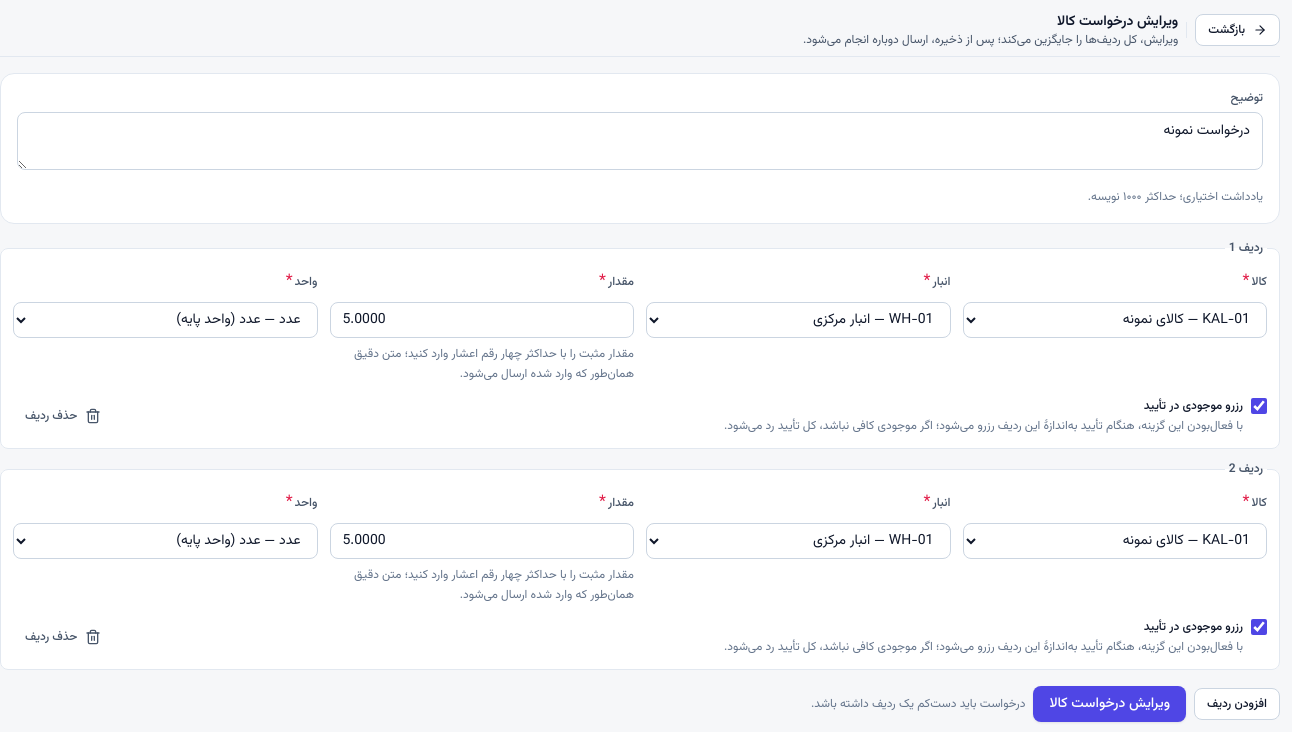
Test: material request edit form › replaces the whole line array through PATCH and keeps the exact strings
The width and height of the screenshot is (1292, 732).
Replace the text in the 1st field labelled "مقدار" with "7.5000" at (482, 320), box top-left (330, 302), bottom-right (634, 338)
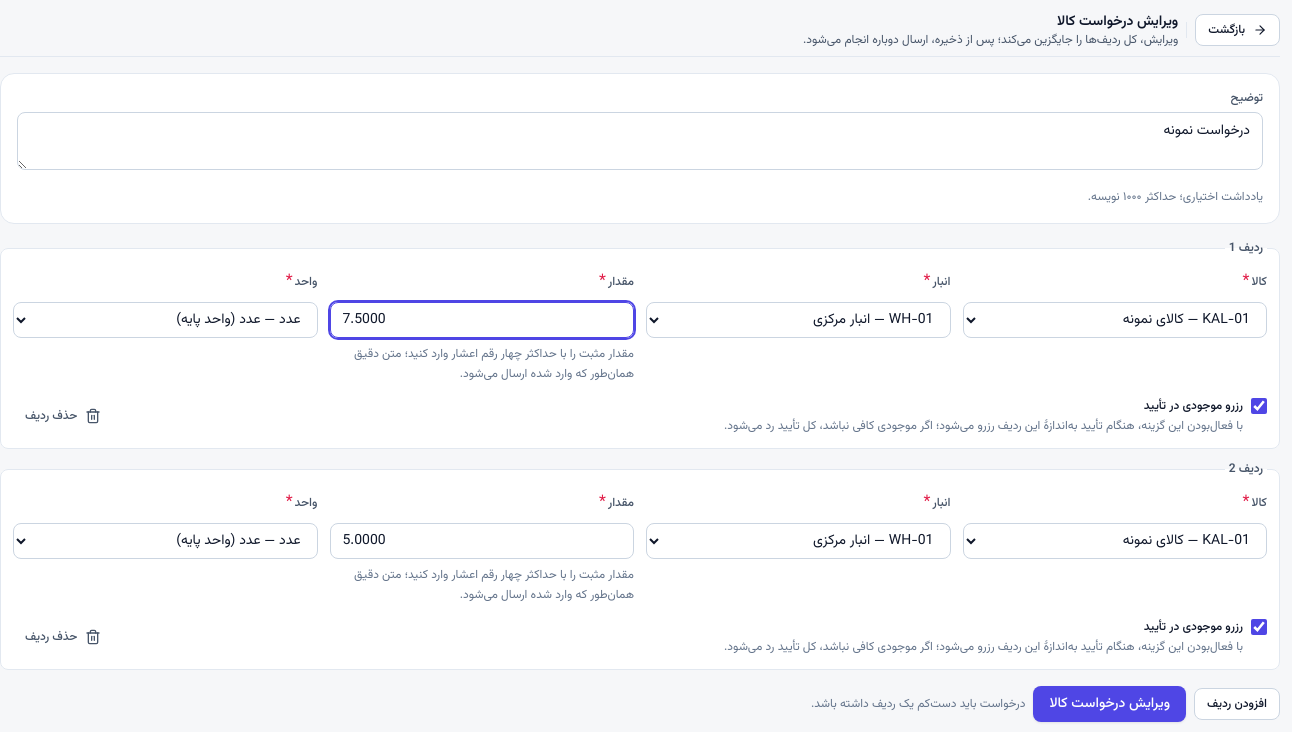
Click the button "ویرایش درخواست کالا" at (1110, 704), box top-left (1033, 686), bottom-right (1186, 722)
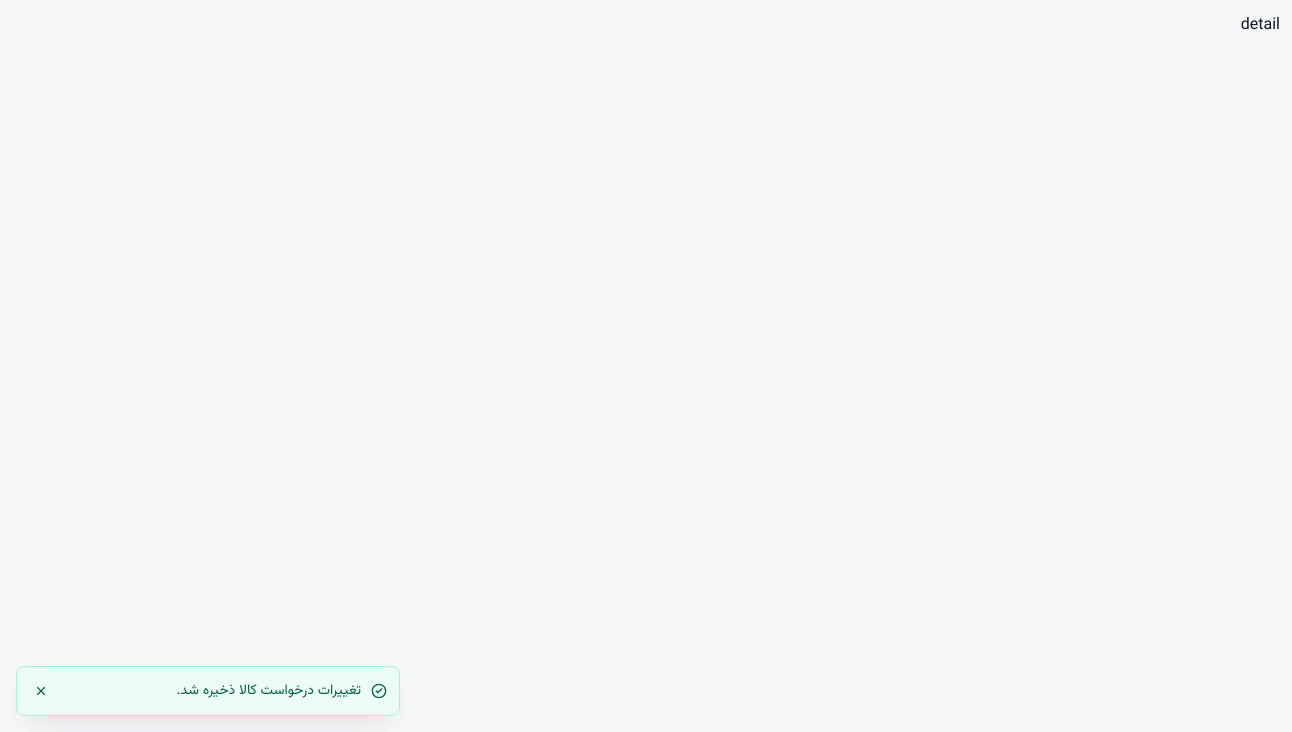
Result: the text "تغییرات درخواست کالا ذخیره شد." is shown at top-left (177, 680), bottom-right (361, 702)
